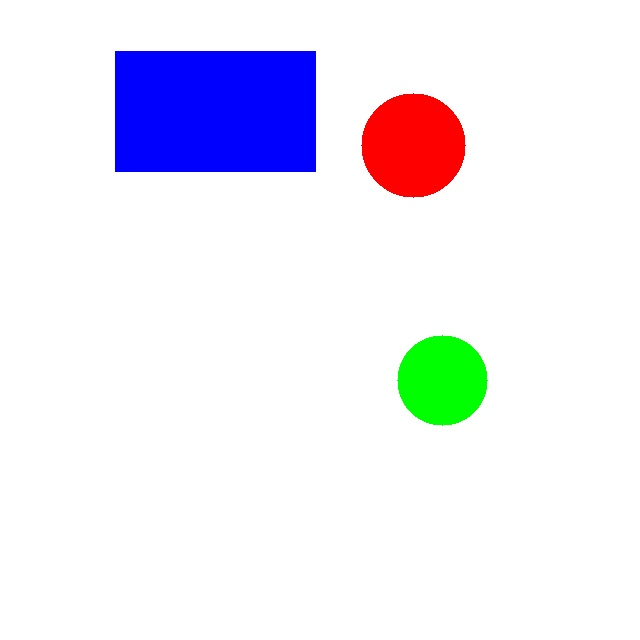cartao: (115, 51, 315, 171)
rosca_externa: (397, 335, 487, 425)
rosca_interna: (361, 93, 465, 197)
